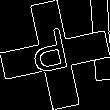P_S: (32, 27, 78, 83)
